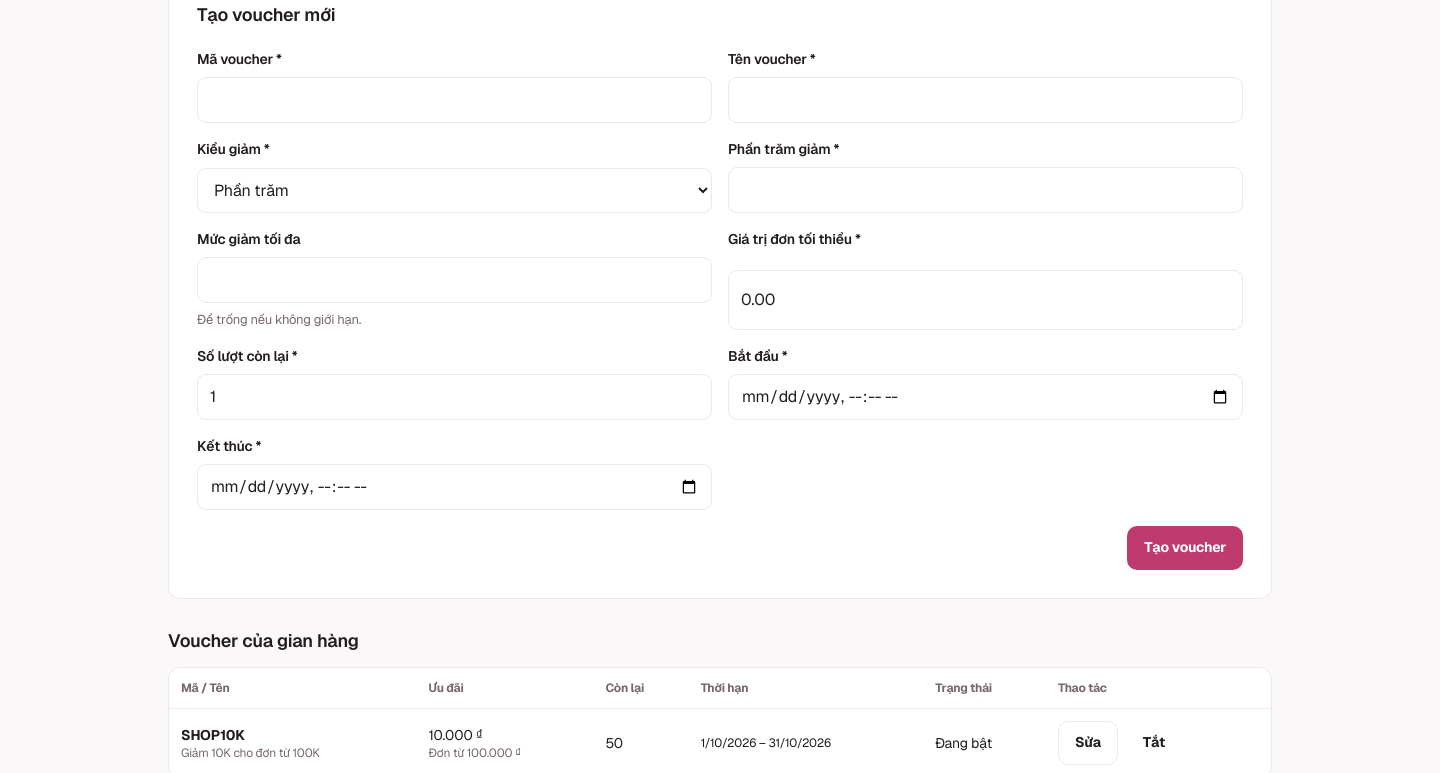
Scenario: SellerVouchersScreen UI › toggles an active voucher to inactive
(page scrolled)
Expected: the text "SHOP10K" is shown, [181,726,245,744]
Click the button "Tắt" at [1154, 742], box [1126,720,1182,764]
(page scrolled)
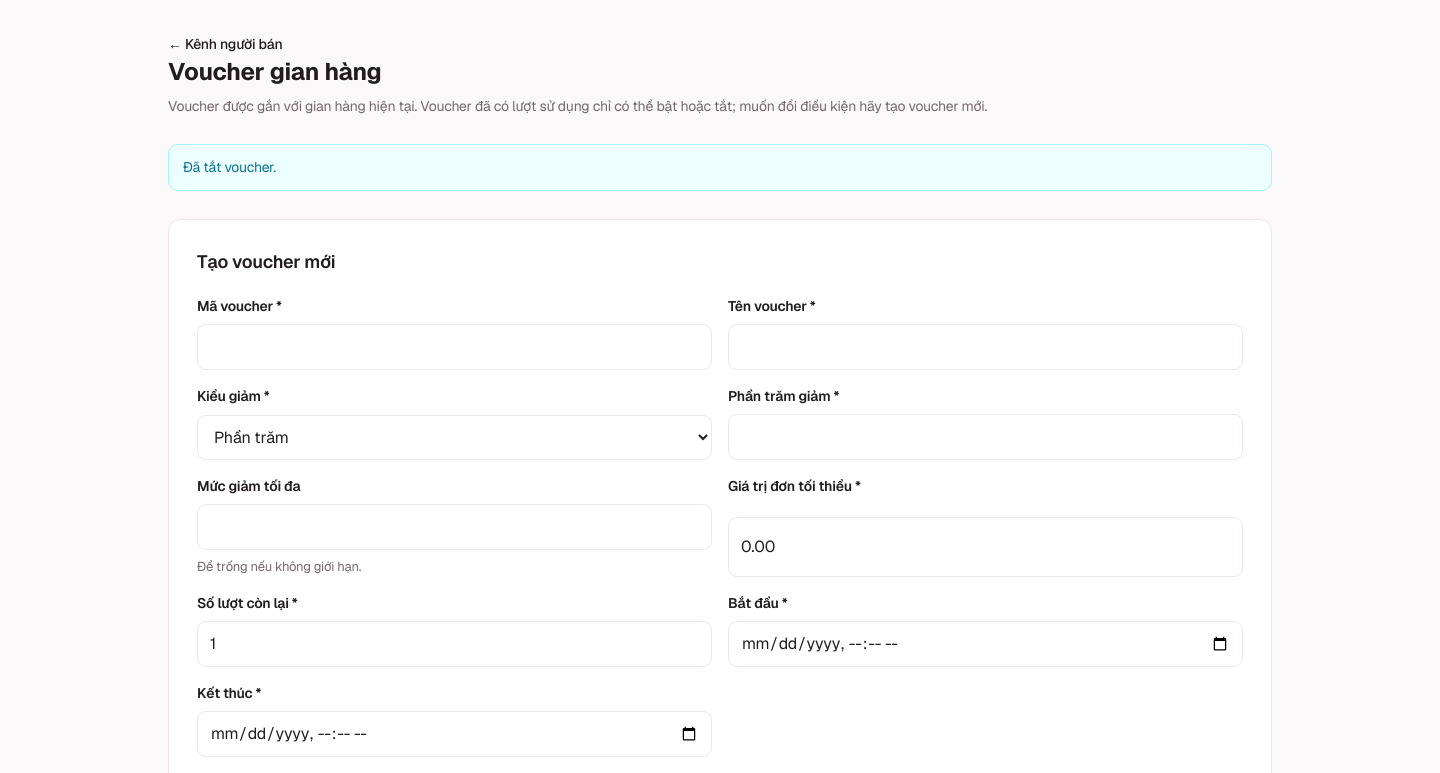
Expected: the text "Đã tắt voucher." is shown, [168,144,1272,191]
